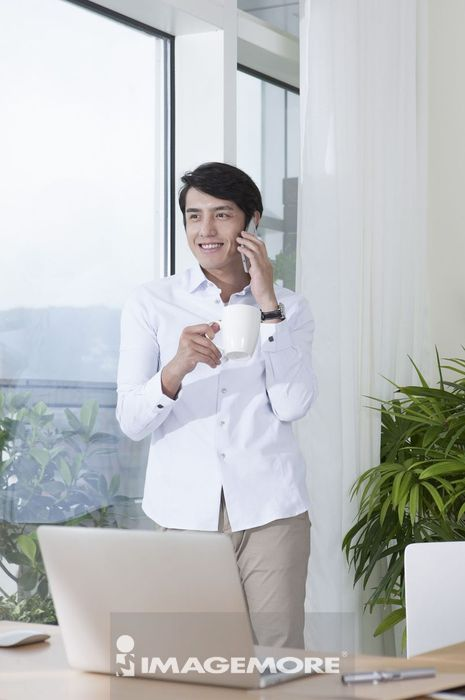phone: (239, 215, 260, 277)
talk: (186, 205, 276, 296)
